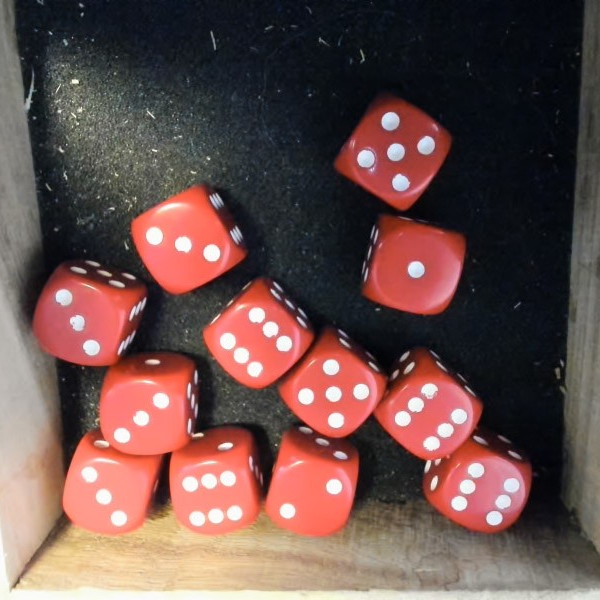red_die_pip1: (353, 214, 465, 324)
red_die_pip2: (258, 427, 370, 546)
red_die_pip3: (123, 172, 259, 306), (27, 245, 161, 377), (55, 434, 166, 548), (98, 348, 207, 462)
red_die_pip5: (326, 84, 462, 219), (269, 322, 401, 456)
red_die_pip6: (360, 342, 493, 474), (412, 422, 545, 550), (195, 270, 324, 400), (160, 422, 271, 539)
